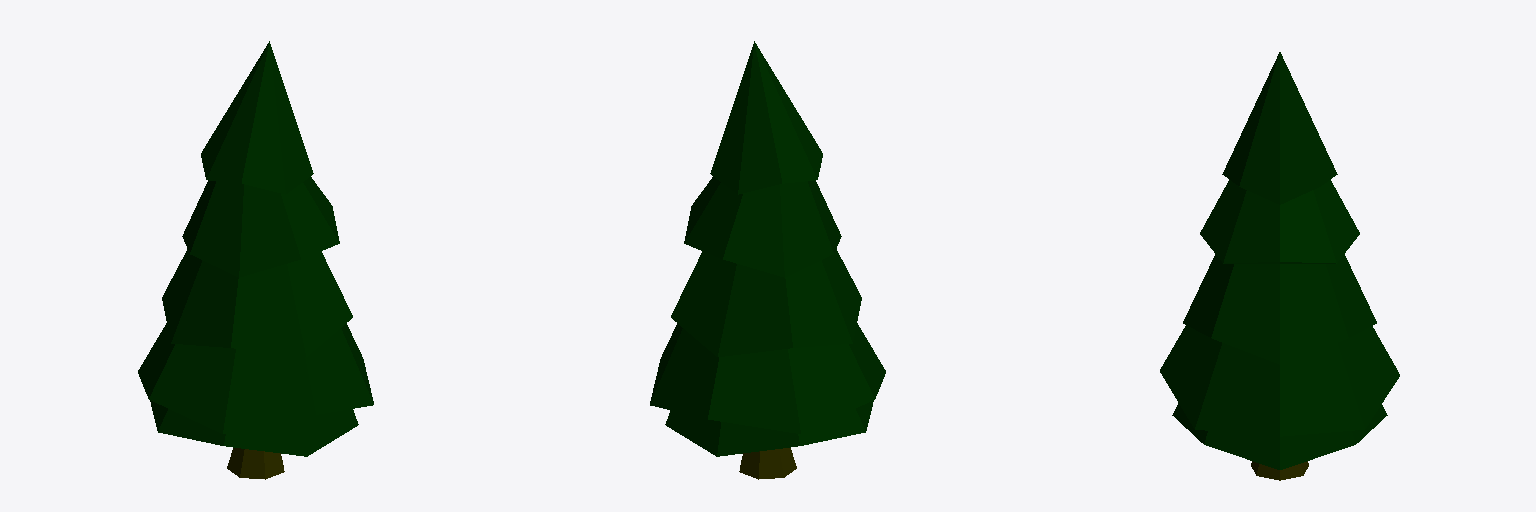
The model's file is gran.obj.
3 views of the same model, side by side, from view 1: azimuth 30°, elevation 25°; view 2: azimuth 150°, elevation 25°; view 3: azimuth 270°, elevation 25° (orthographic).
Visible parts, largest first — view 1: low-poly-pinetree; view 2: low-poly-pinetree; view 3: low-poly-pinetree.
Part boxes in pixels (left/top/right/bottom): low-poly-pinetree: left=138, top=41, right=373, bottom=479; low-poly-pinetree: left=650, top=41, right=885, bottom=479; low-poly-pinetree: left=1160, top=52, right=1399, bottom=480.
Size of the model in its own units: 2.32 by 4.38 by 2.26.